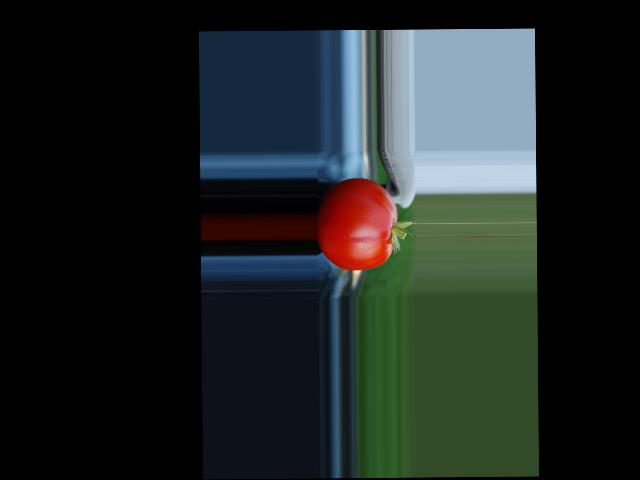tomato: (316, 177, 397, 271)
